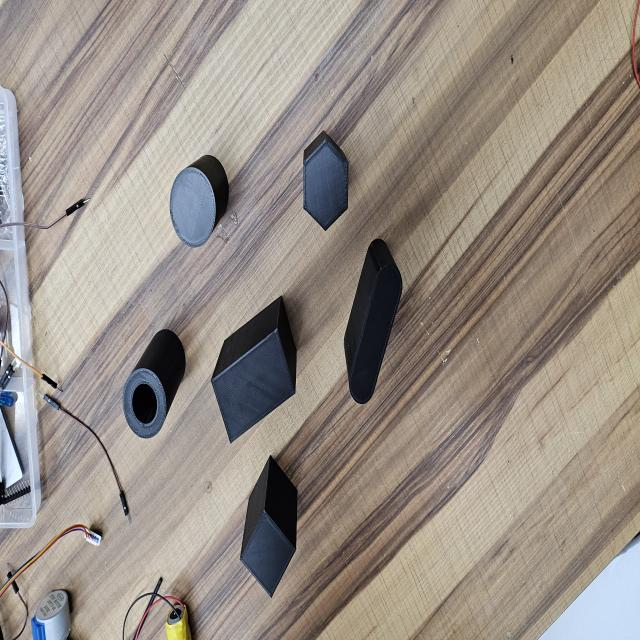circle: (169, 168, 215, 245)
hexagon: (303, 141, 349, 231)
oval: (347, 261, 405, 409)
rectangle: (213, 330, 295, 446)
ring: (122, 369, 168, 438)
square: (241, 511, 298, 597)
